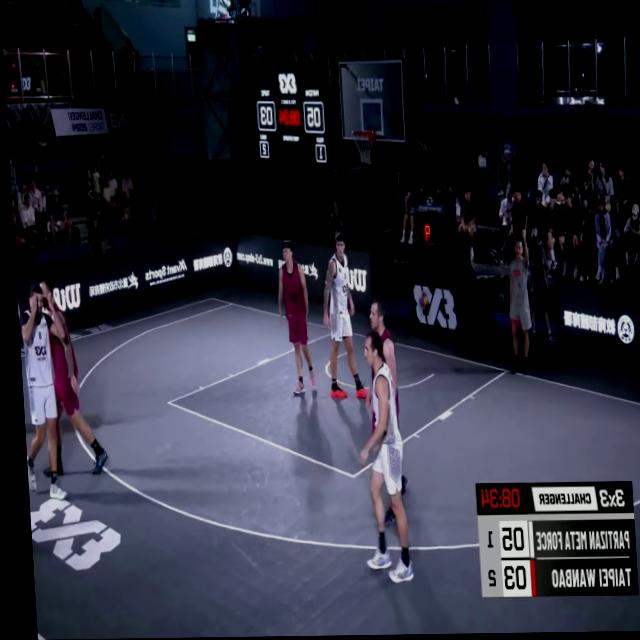hoop: (350, 126, 375, 171)
player: (32, 280, 103, 482), (351, 326, 405, 589), (13, 288, 64, 496), (362, 297, 402, 527), (315, 236, 360, 402), (271, 239, 311, 397)
